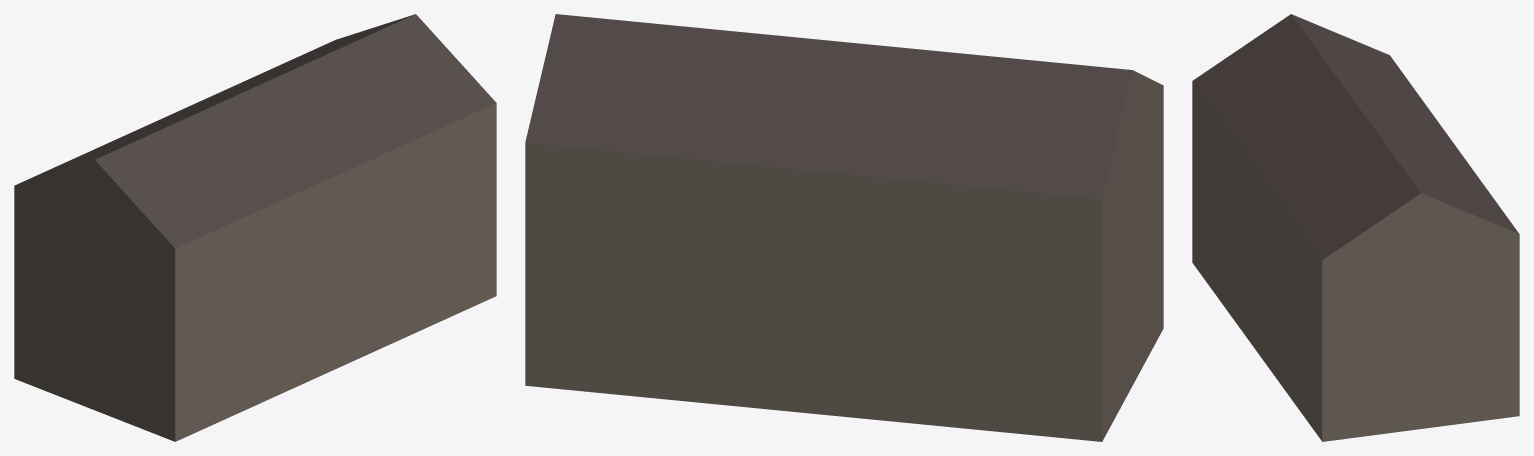
The picture shows the model from 3 angles, left to right: view 1: azimuth 30°, elevation 25°; view 2: azimuth 150°, elevation 25°; view 3: azimuth 270°, elevation 25°; orthographic projection. The views are drawn at different scales.
Parts seen in each view (by area): view 1: HP-w859447959; view 2: HP-w859447959; view 3: HP-w859447959.
Boxes of the visible parts, left/top/right/bottom form: HP-w859447959: left=14, top=14, right=496, bottom=441; HP-w859447959: left=525, top=14, right=1163, bottom=441; HP-w859447959: left=1192, top=14, right=1519, bottom=441.
Size of the model in its own units: 14.51 by 7.79 by 9.79.
